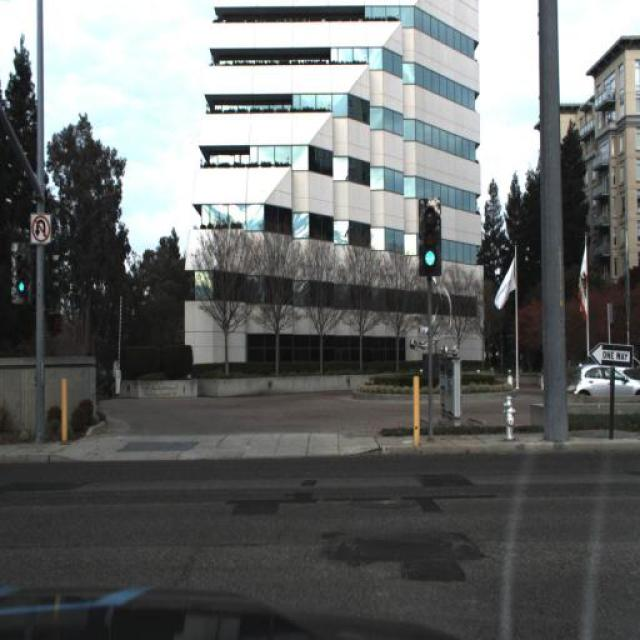car: (574, 362, 640, 408)
trafficLight-GreenLeft: (418, 200, 442, 276), (417, 206, 441, 280), (12, 260, 32, 305), (16, 250, 26, 300)
